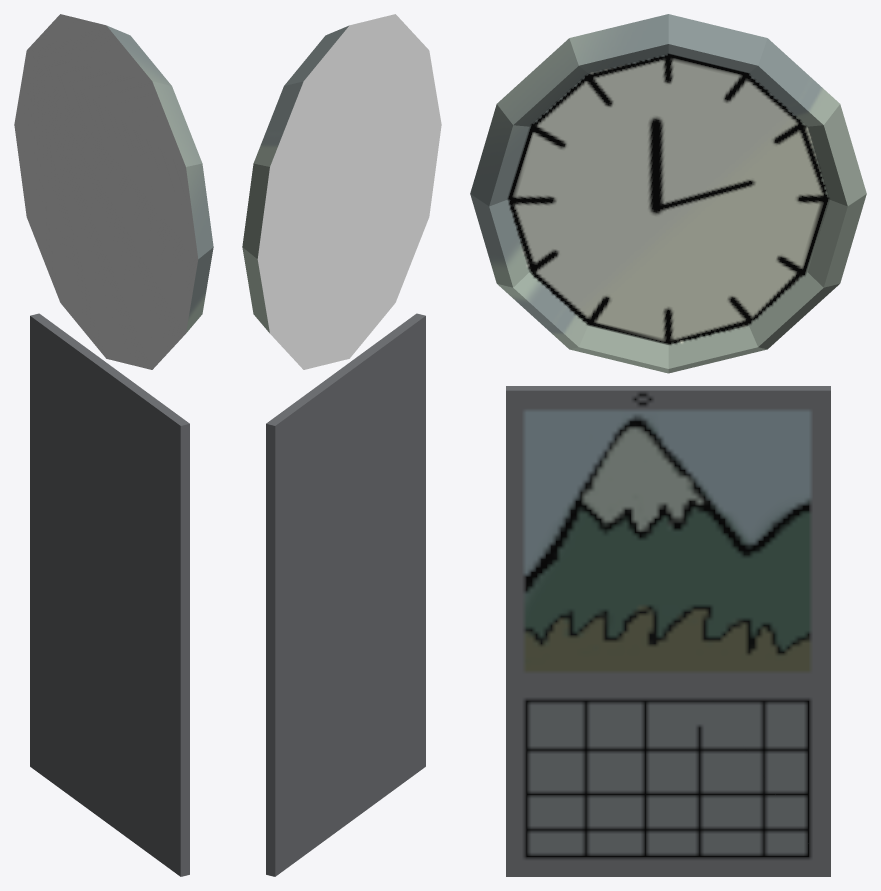
File: clock.obj
3 renders of one model, left to right at view 1: azimuth 30°, elevation 25°; view 2: azimuth 150°, elevation 25°; view 3: azimuth 270°, elevation 25°, orthographic. The views are drawn at different scales.
Visible parts, largest first — view 1: Interior.001_Interior.005; view 2: Interior.001_Interior.005; view 3: Interior.001_Interior.005.
Boxes of the visible parts, bbox=[...] form: Interior.001_Interior.005: bbox=[14, 14, 213, 876]; Interior.001_Interior.005: bbox=[242, 14, 441, 876]; Interior.001_Interior.005: bbox=[470, 14, 866, 876].
Bounding box in the file's own units: 0.0468 × 1.42 × 0.5942.
1 material, 1 textured.
